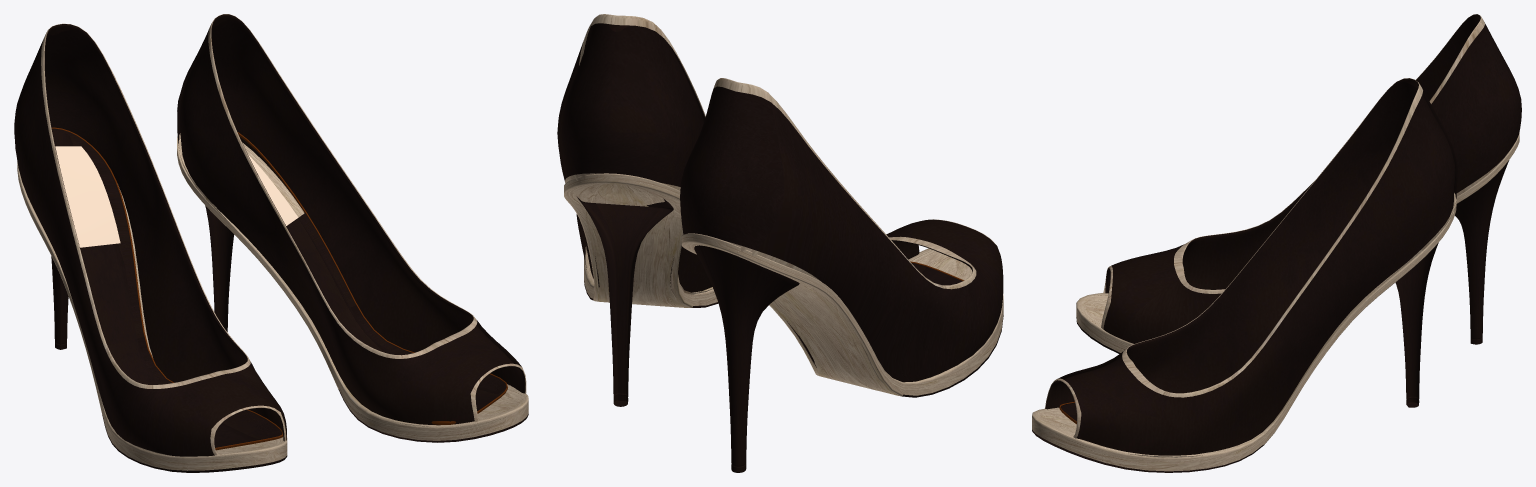
Rendered from jimmy-choo.glb.
3 renders of one model, left to right at view 1: azimuth 30°, elevation 25°; view 2: azimuth 150°, elevation 25°; view 3: azimuth 270°, elevation 25°, orthographic. The views are drawn at different scales.
Parts seen in each view (by area): view 1: Plane010, Plane009, Object003, Box012, Object004, Box011, Box013, Box010; view 2: Plane009, Plane010, Box011, Box012, Box010, Box013, Object003; view 3: Plane010, Plane009, Box012, Box010, Box013, Box011.
Part boxes in pixels (x1,y1,x2,y2): Plane010: (177,14,526,426); Plane009: (14,23,286,456); Object003: (52,127,283,450); Box012: (177,133,528,442); Object004: (237,132,507,424); Box011: (17,162,287,472); Box013: (205,205,234,331); Box010: (51,256,68,349); Plane009: (680,78,1003,385); Plane010: (557,14,713,298); Box011: (681,233,1003,397); Box012: (564,173,718,307); Box010: (694,245,799,472); Box013: (577,197,673,406); Object003: (910,261,963,285); Plane010: (1045,78,1457,457); Plane009: (1101,14,1521,343); Box012: (1032,193,1456,472); Box010: (1455,160,1509,344); Box013: (1395,243,1438,407); Box011: (1076,132,1519,353).
Size of the model in its own units: 0.2108 by 0.1885 by 0.2577.
Materials: 15 (10 with a texture image).
